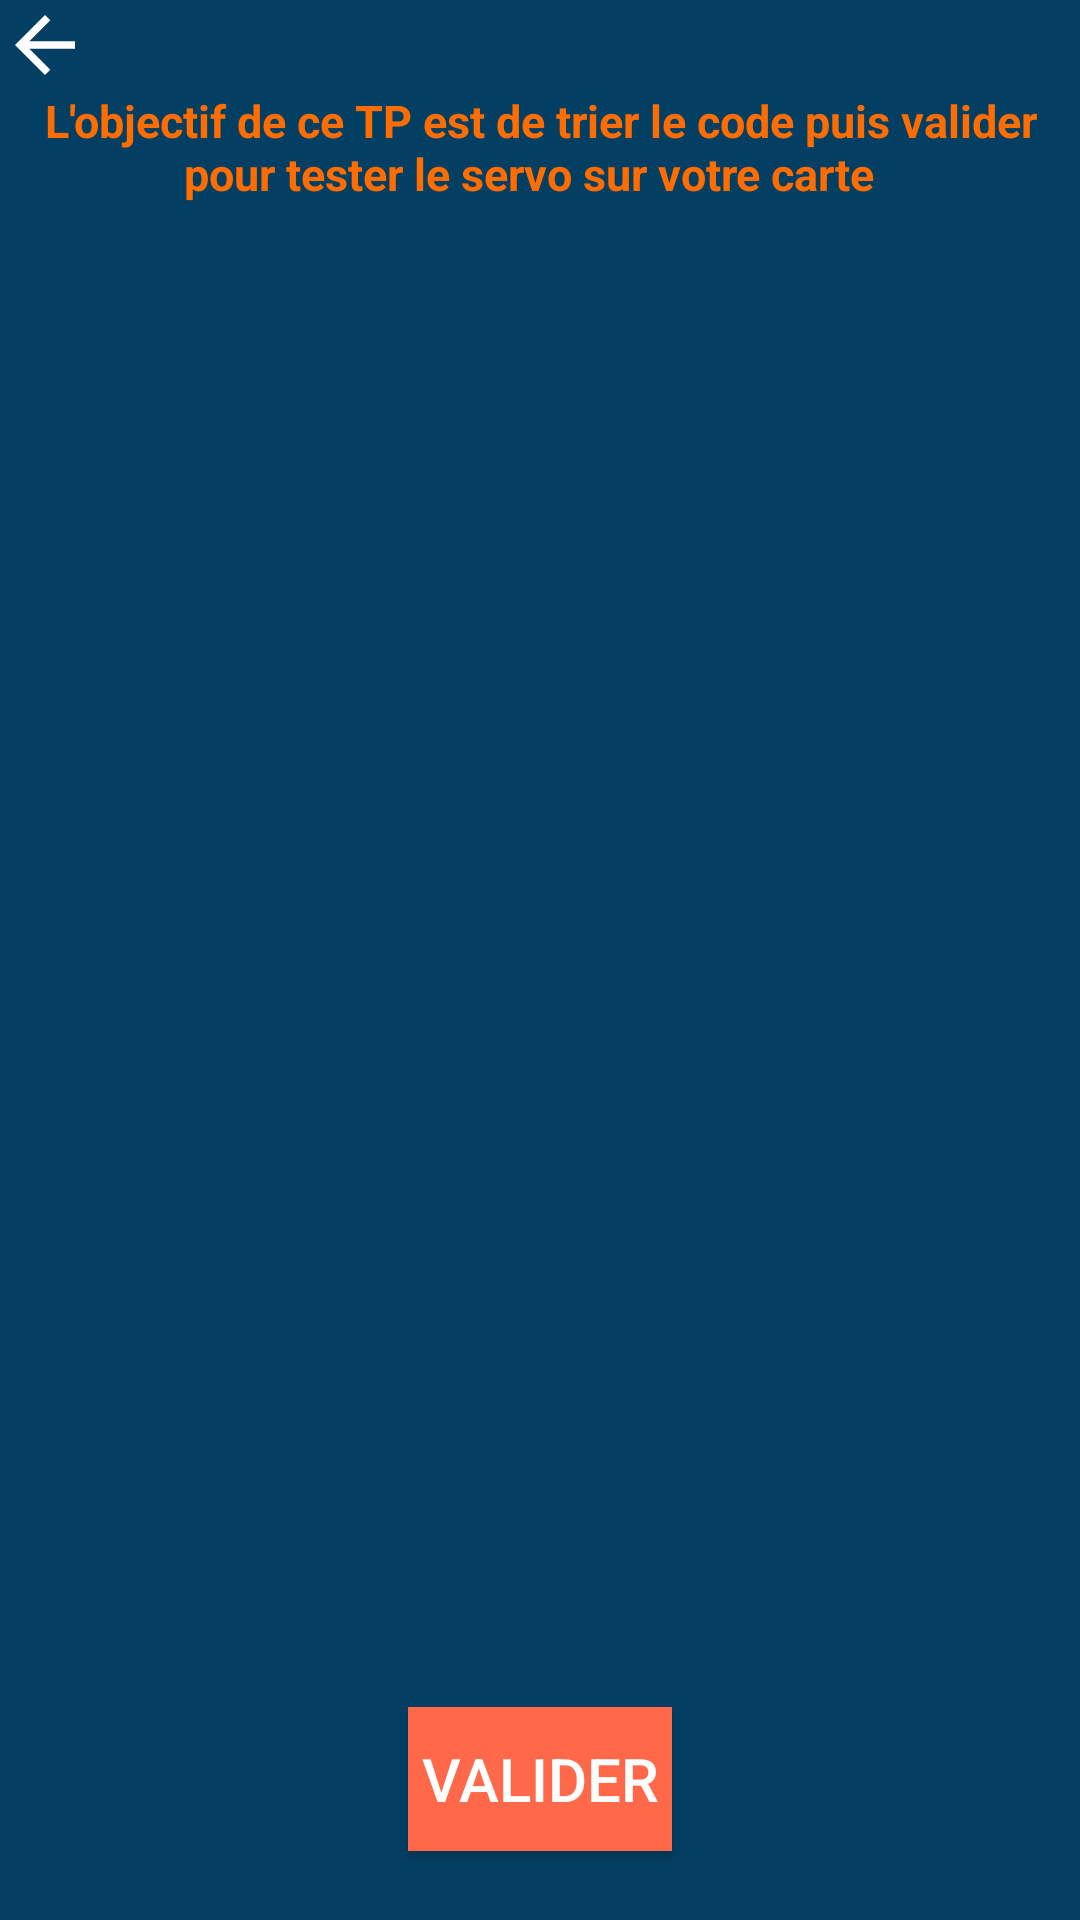

Screen size 1080px x 1920px. Icon name, then its center in pixels as (x,y):
ret: (45,45)
